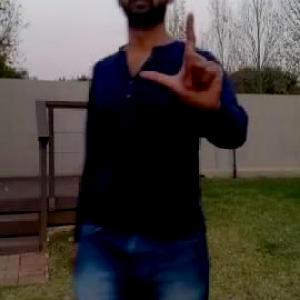land_hand: (140, 6, 228, 114)
